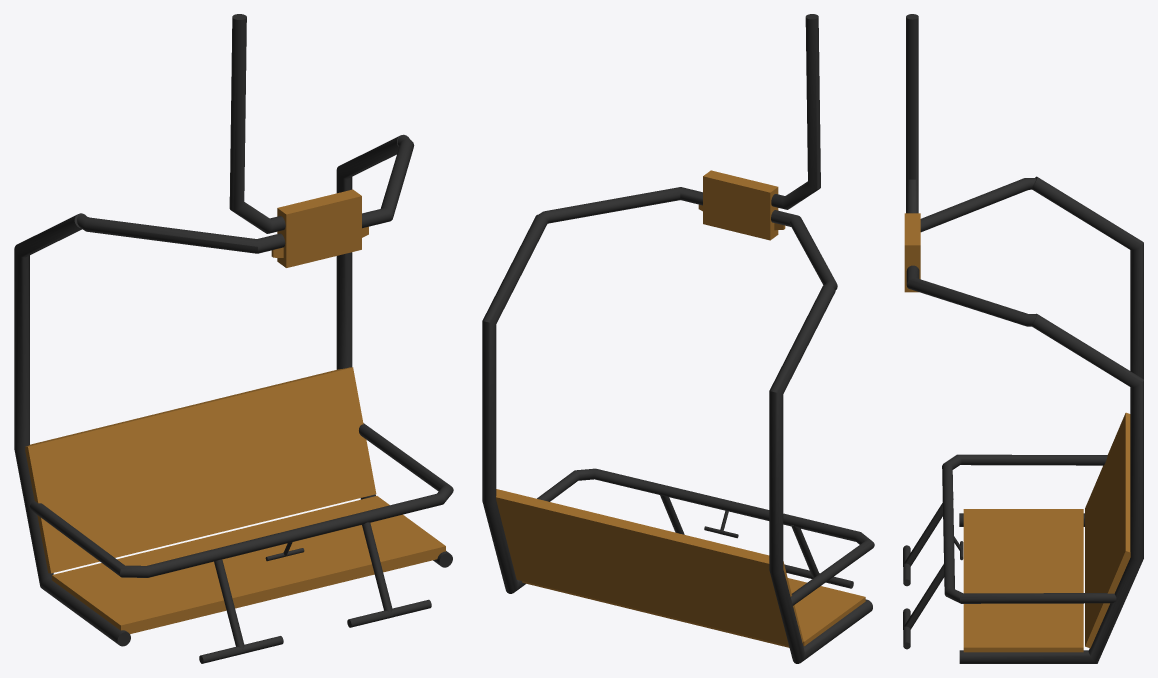
File: Chairlift 1.fbx
3 views of the same model, side by side, from view 1: azimuth 30°, elevation 25°; view 2: azimuth 150°, elevation 25°; view 3: azimuth 270°, elevation 25° (orthographic). The views are drawn at different scales.
Visible parts, largest first — view 1: Box001; view 2: Box001; view 3: Box001.
Part boxes in pixels (x1=…): Box001: x1=14, y1=14, x2=453, y2=663; Box001: x1=482, y1=14, x2=874, y2=663; Box001: x1=903, y1=14, x2=1143, y2=663.
Size of the model in its own units: 455 by 819 by 323.
